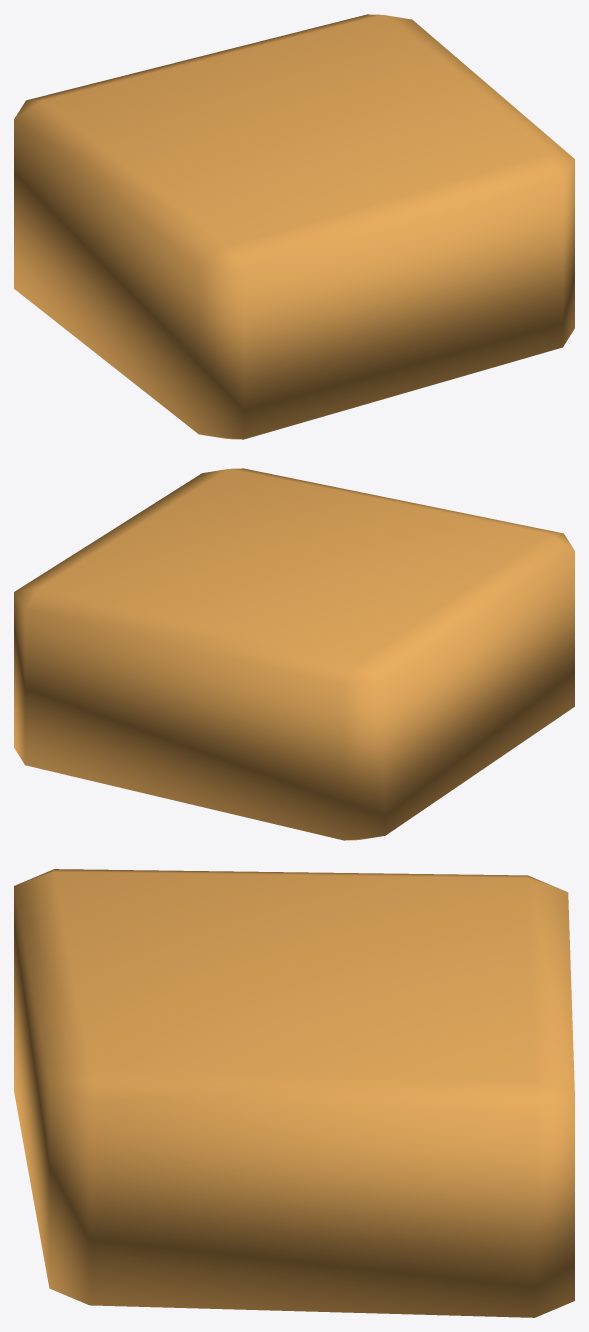
Rendered from smallDiamond.glb.
3 renders of one model, top to bottom at view 1: azimuth 30°, elevation 25°; view 2: azimuth 150°, elevation 25°; view 3: azimuth 270°, elevation 25°, orthographic. The views are drawn at different scales.
Parts seen in each view (by area): view 1: Cube.004; view 2: Cube.004; view 3: Cube.004.
Boxes of the visible parts, x1,y1,x2,y2 form: Cube.004: (14,14,574,439); Cube.004: (14,468,574,840); Cube.004: (14,869,574,1317).
Size of the model in its own units: 0.5884 by 0.2628 by 0.5726.
